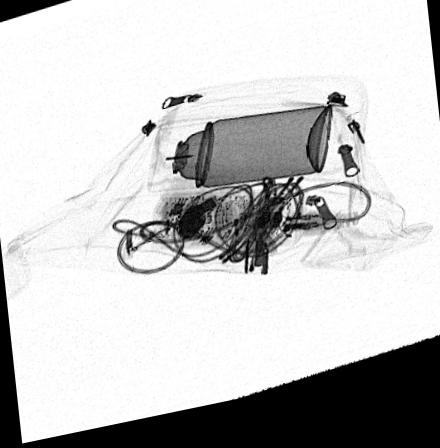Sprayer: (147, 118, 333, 200)
